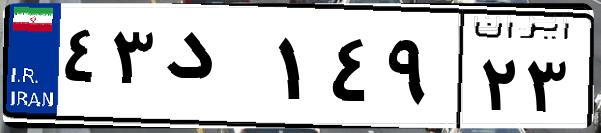1: (270, 28, 330, 110)
2: (475, 38, 525, 113)
3: (525, 38, 570, 115), (110, 28, 158, 98)
4: (330, 28, 385, 110), (57, 26, 110, 100)
9: (385, 28, 445, 110)
د: (158, 20, 270, 120)
